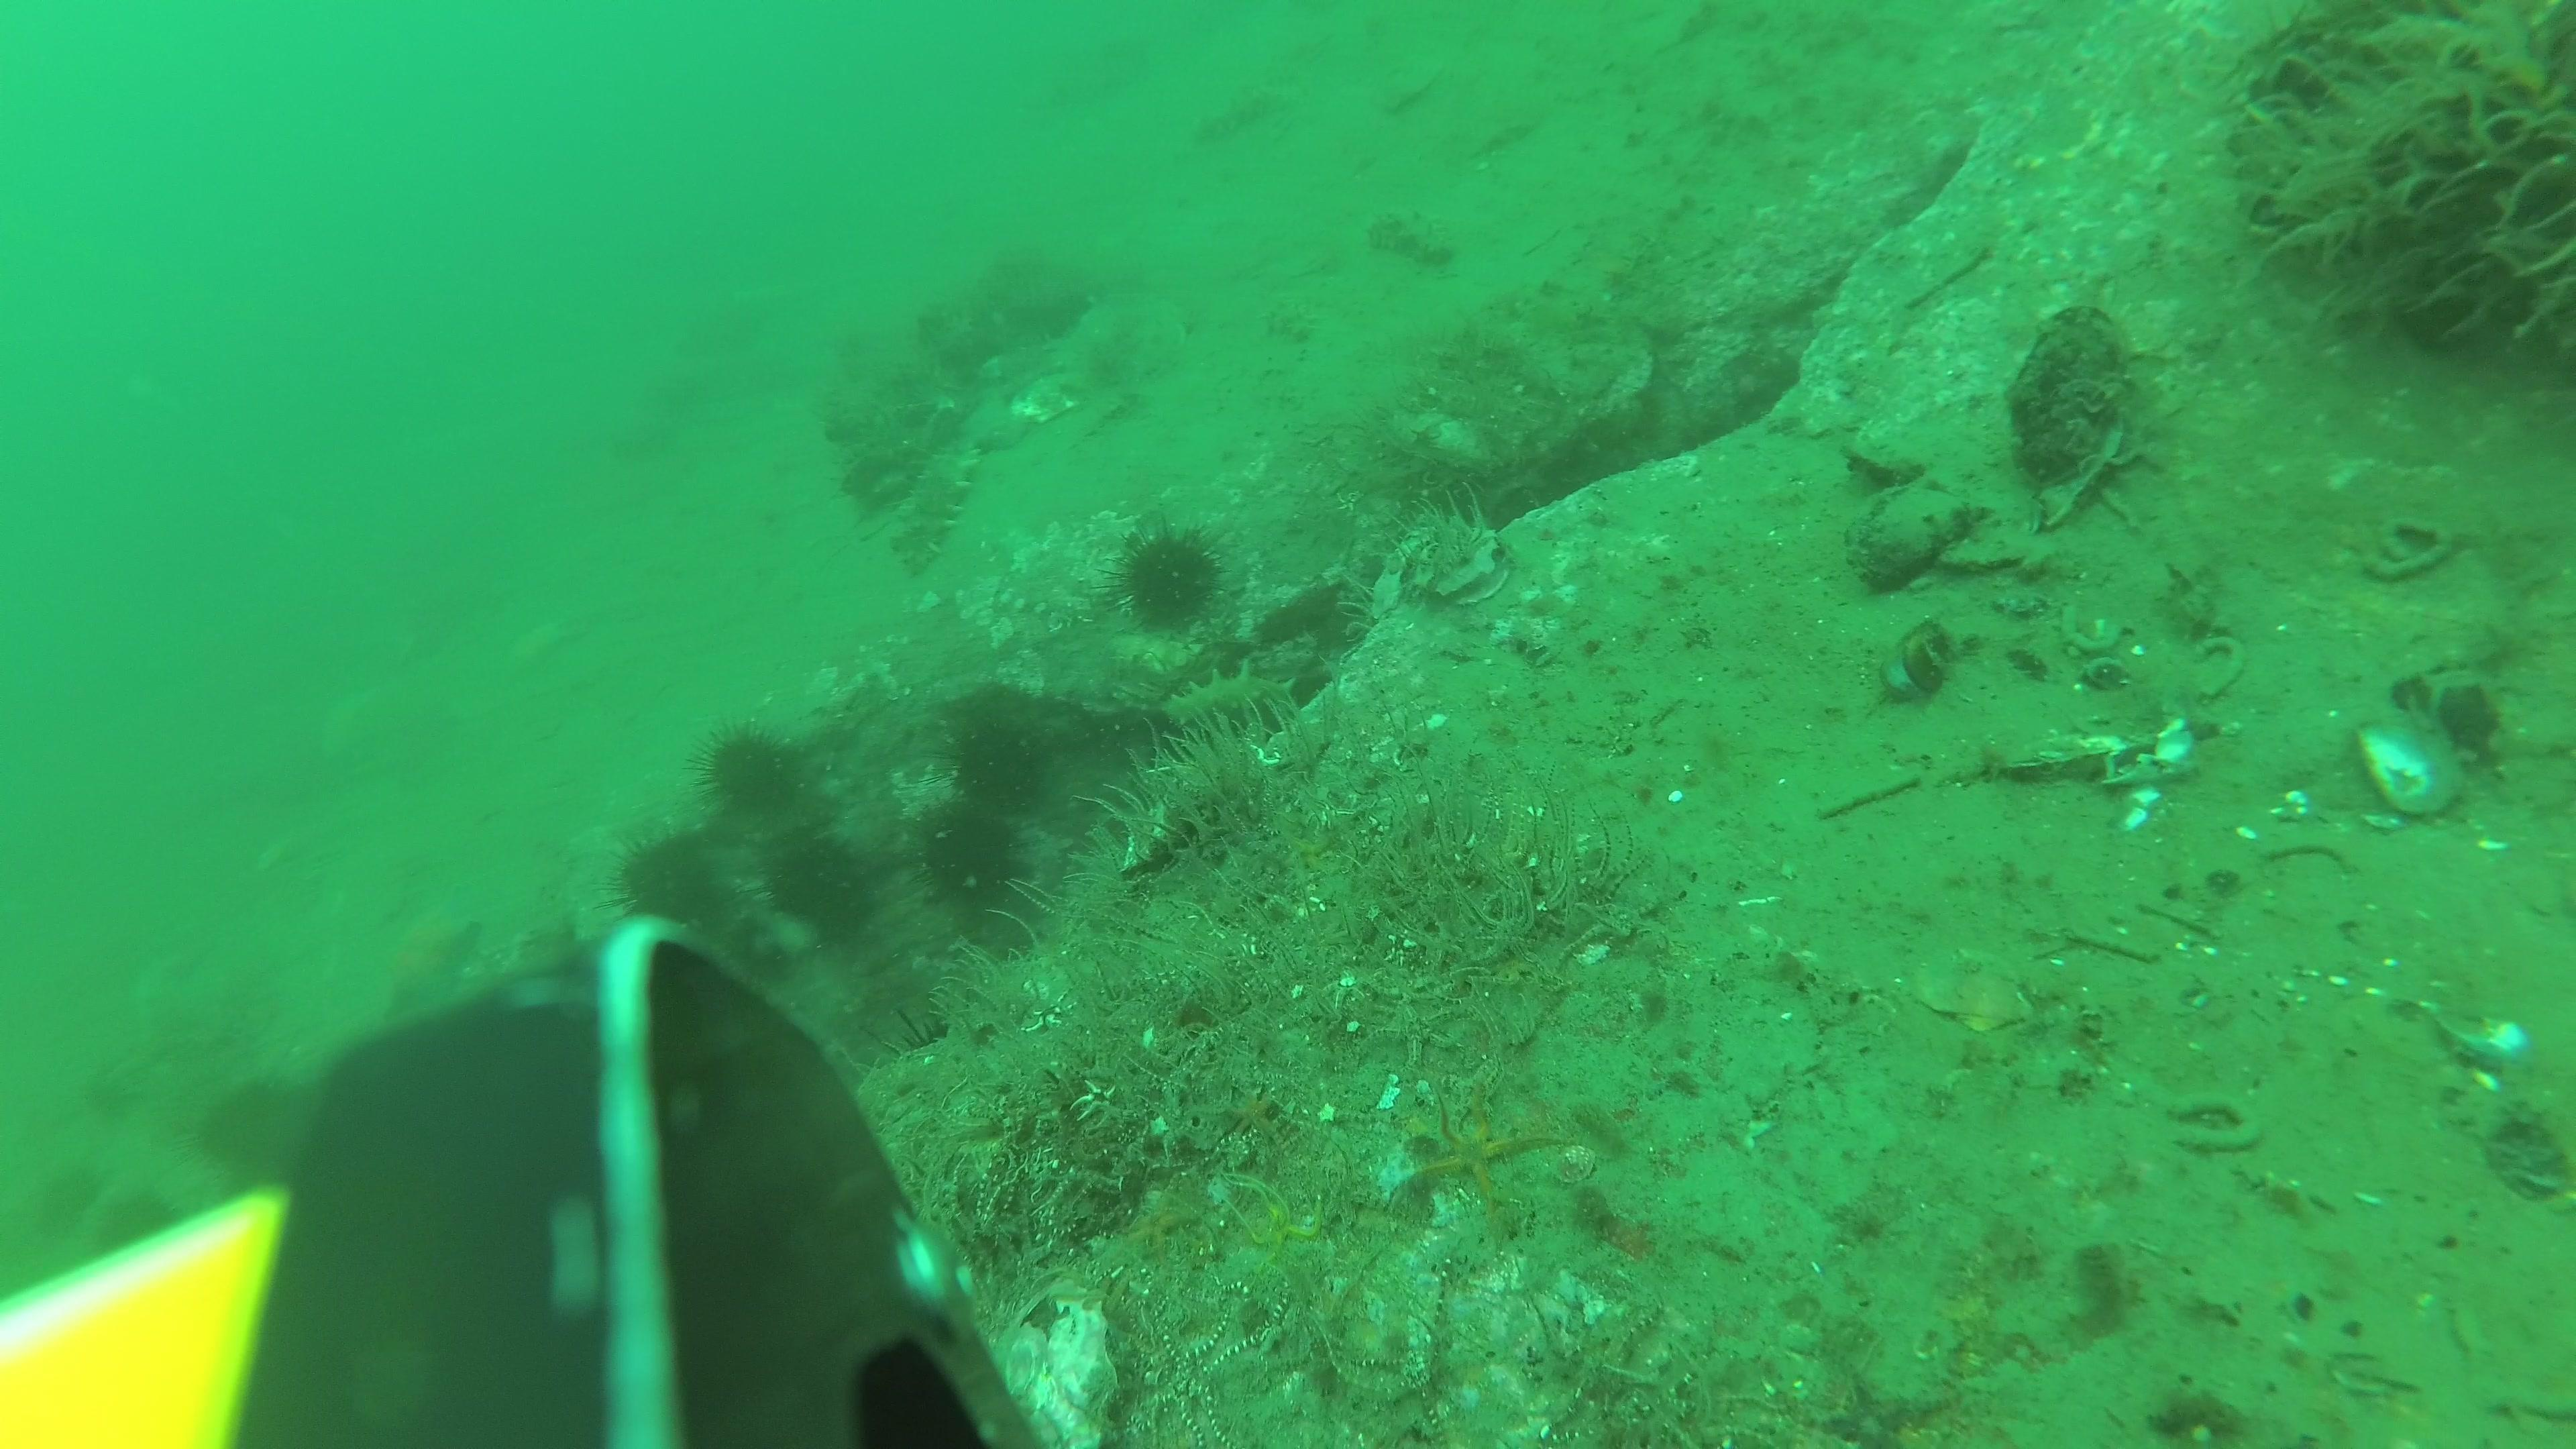echinus: (1113, 524, 1228, 635), (200, 1083, 306, 1182), (924, 817, 1024, 918), (616, 835, 725, 925), (697, 727, 798, 824), (777, 837, 867, 938), (959, 725, 1044, 817), (899, 1016, 982, 1104), (97, 1192, 180, 1272)
holothurian: (899, 439, 977, 589), (1164, 669, 1299, 731), (1196, 87, 1277, 145), (1376, 211, 1456, 267), (1265, 304, 1316, 347)
scallop: (1916, 947, 2038, 1037), (1380, 50, 1440, 111), (1017, 373, 1088, 423)
starfish: (1421, 1090, 1566, 1207), (1228, 1171, 1323, 1272), (1132, 1189, 1191, 1251)
